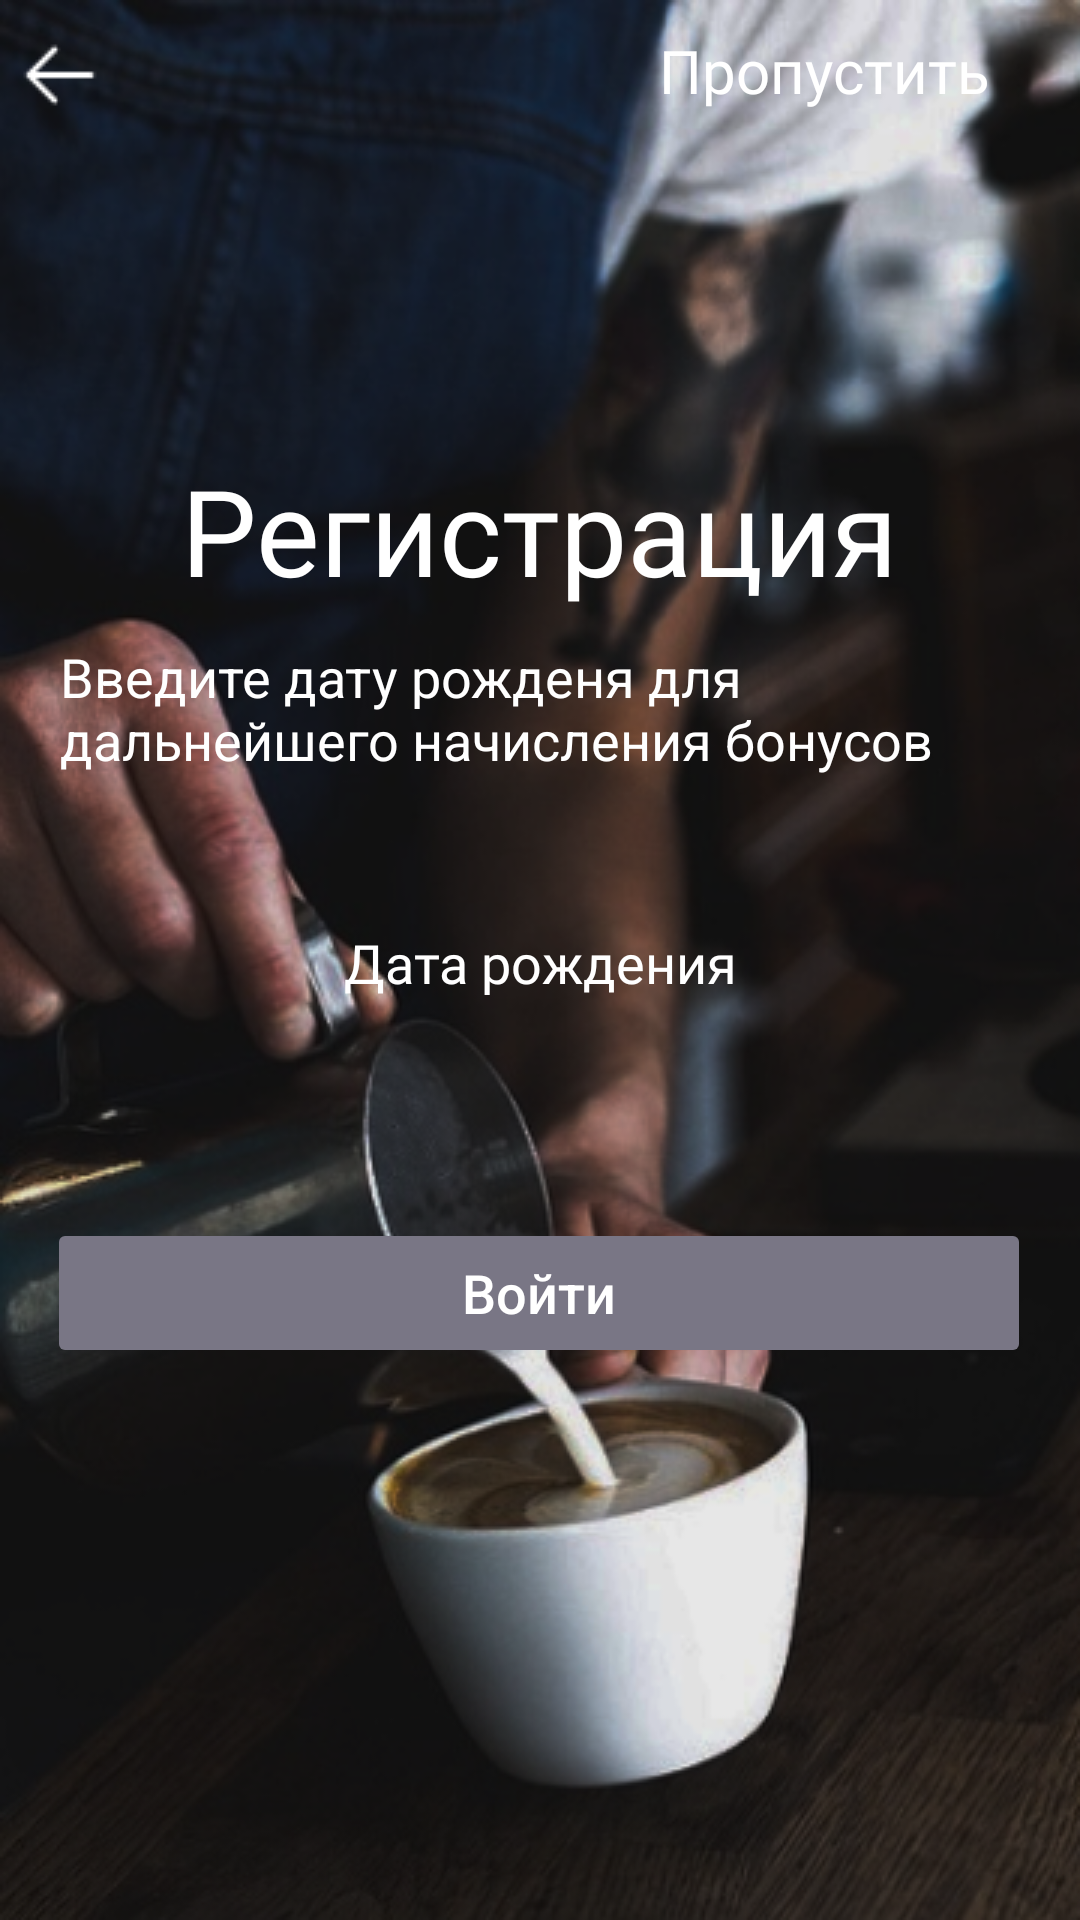

Screen size 1080w x 1920h. Icon name, then its box in pixels as box=[x1, y1, x2, y2]:
back: box=[25, 44, 95, 105]
